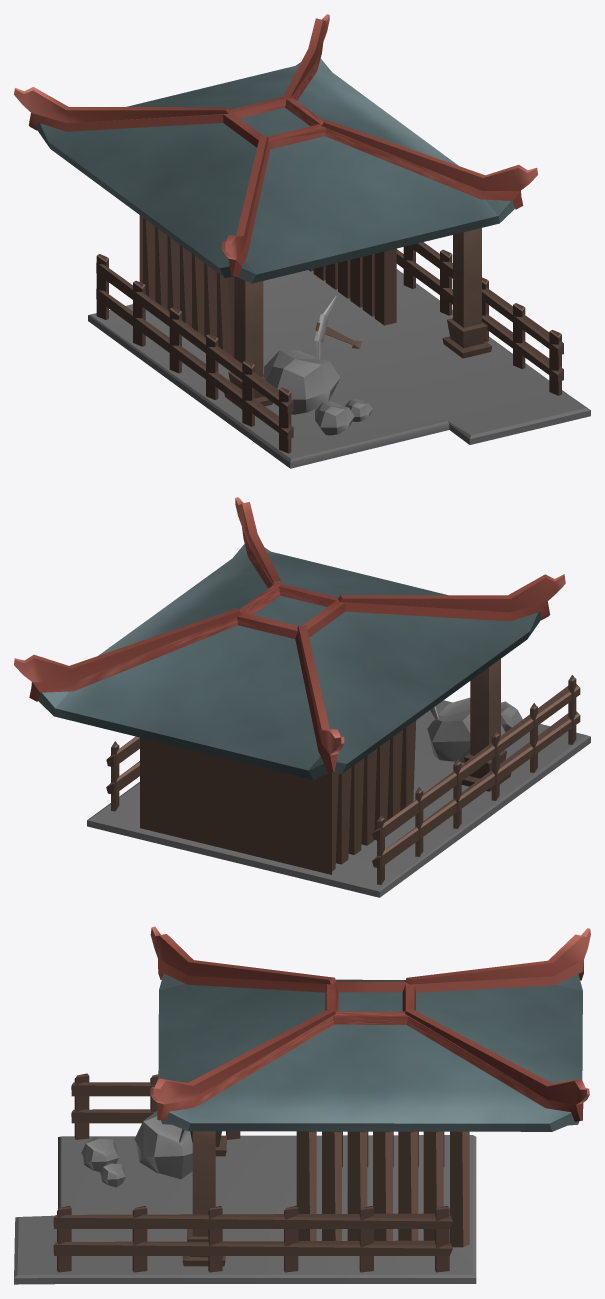
File: mine_1lvl.fbx
The picture shows the model from 3 angles, top to bottom: view 1: azimuth 30°, elevation 25°; view 2: azimuth 150°, elevation 25°; view 3: azimuth 270°, elevation 25°; orthographic projection. The views are drawn at different scales.
Parts seen in each view (by area): view 1: mine_1lvl; view 2: mine_1lvl; view 3: mine_1lvl.
Part boxes in pixels (left/top/right/bottom): mine_1lvl: left=14, top=14, right=590, bottom=468; mine_1lvl: left=14, top=497, right=590, bottom=897; mine_1lvl: left=14, top=926, right=590, bottom=1284.
Size of the model in its own units: 4.51 by 2.86 by 6.86.
